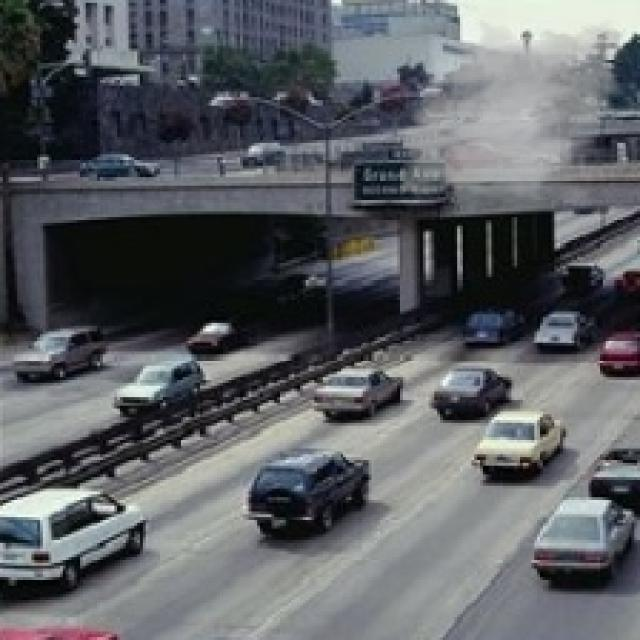Smoke: (388, 5, 634, 212)
